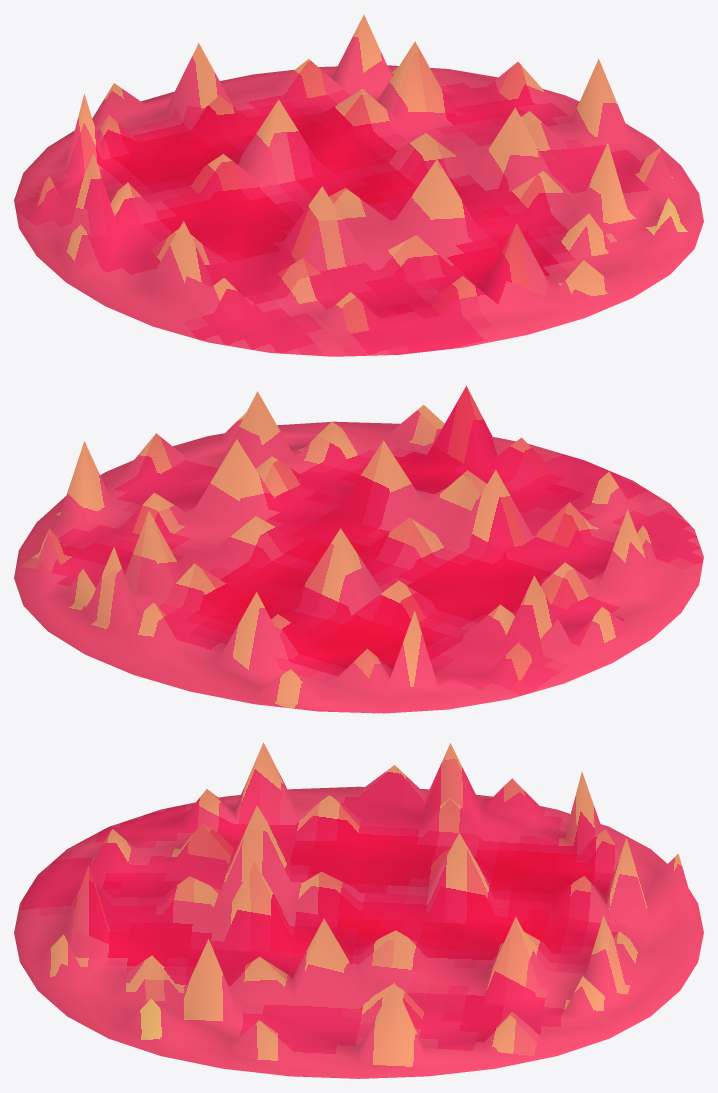
File: damage_potion.gltf
3 renders of one model, top to bottom at view 1: azimuth 30°, elevation 25°; view 2: azimuth 150°, elevation 25°; view 3: azimuth 270°, elevation 25°, orthographic.
Parts seen in each view (by area): view 1: damage_potion; view 2: damage_potion; view 3: damage_potion.
Boxes of the visible parts, x1,y1,x2,y2 form: damage_potion: (14, 14, 703, 356); damage_potion: (14, 385, 703, 713); damage_potion: (14, 742, 703, 1078).
Size of the model in its own units: 0.5302 by 0.0835 by 0.5302.
1 material, 1 textured.
